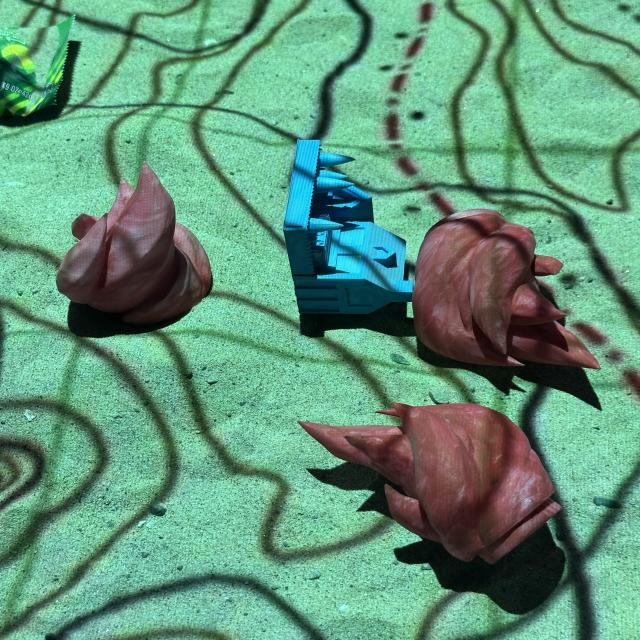fire: (294, 397, 560, 567), (410, 207, 601, 370), (55, 160, 213, 328)
house: (282, 138, 414, 323)
